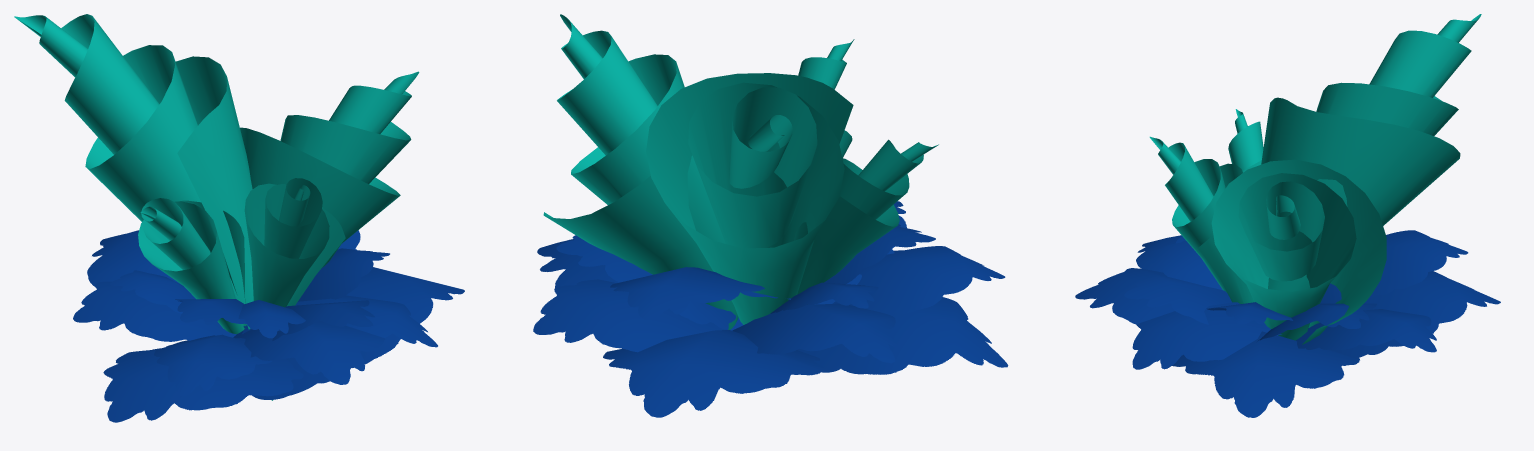
The model's file is SM_PlanteTourneRetourne.fbx.
3 renders of one model, left to right at view 1: azimuth 30°, elevation 25°; view 2: azimuth 150°, elevation 25°; view 3: azimuth 270°, elevation 25°, orthographic. The views are drawn at different scales.
Parts seen in each view (by area): view 1: Plane367; view 2: Plane367; view 3: Plane367.
Part boxes in pixels (x1,y1,x2,y2): Plane367: [14, 14, 464, 422]; Plane367: [533, 14, 1008, 417]; Plane367: [1075, 14, 1500, 417].
Bounding box in the file's own units: 133 × 101 × 136.
